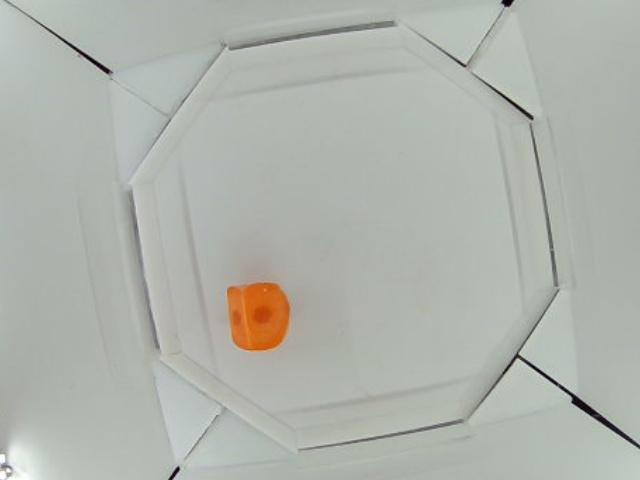Carrot: (226, 281, 288, 351)
